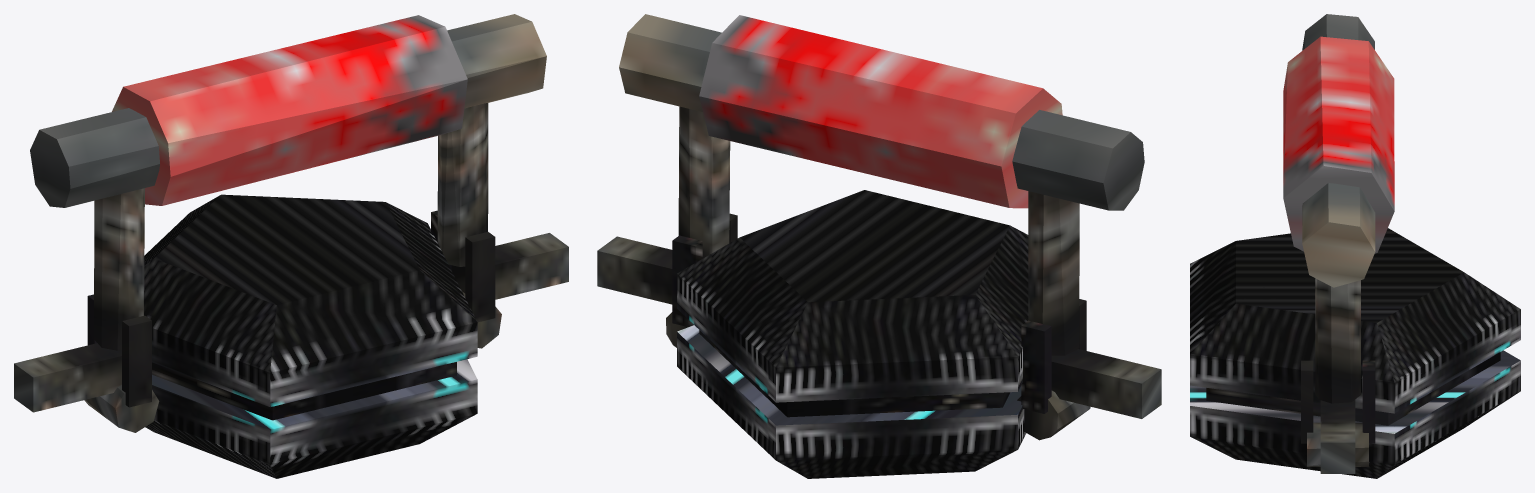
File: shock_trap_CLOSED.fbx
The picture shows the model from 3 angles, left to right: view 1: azimuth 30°, elevation 25°; view 2: azimuth 150°, elevation 25°; view 3: azimuth 270°, elevation 25°; orthographic projection. The views are drawn at different scales.
Parts seen in each view (by area): view 1: shocktrap.closed; view 2: shocktrap.closed; view 3: shocktrap.closed.
Part boxes in pixels (x1,y1,x2,y2): shocktrap.closed: (14,14,568,478); shocktrap.closed: (597,14,1161,478); shocktrap.closed: (1190,14,1520,478).
Size of the model in its own units: 337 by 218 by 201.
